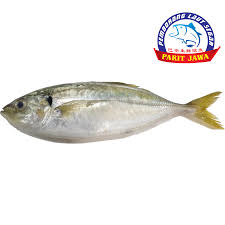Ikan Selar: (2, 81, 224, 143)
